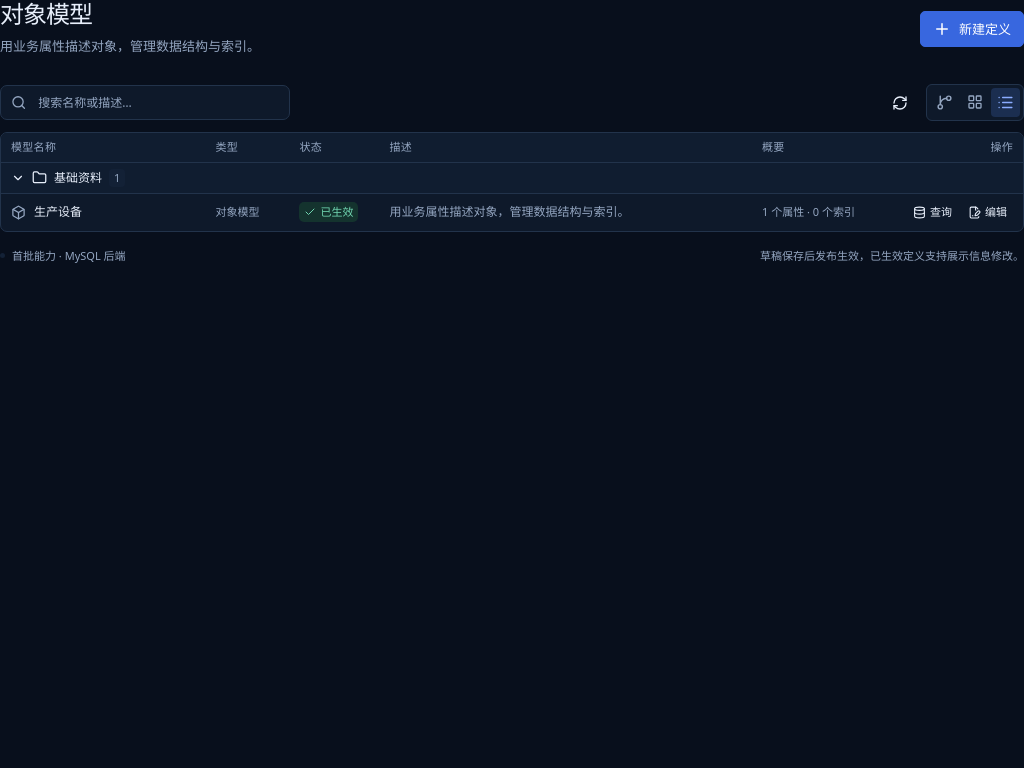
Test: 模型工作流 › 已生效的正向绑定允许增加可空属性，已有属性和映射保持锁定
Click the button "编辑". click: (988, 212)
box: 962,198 -> 1013,226
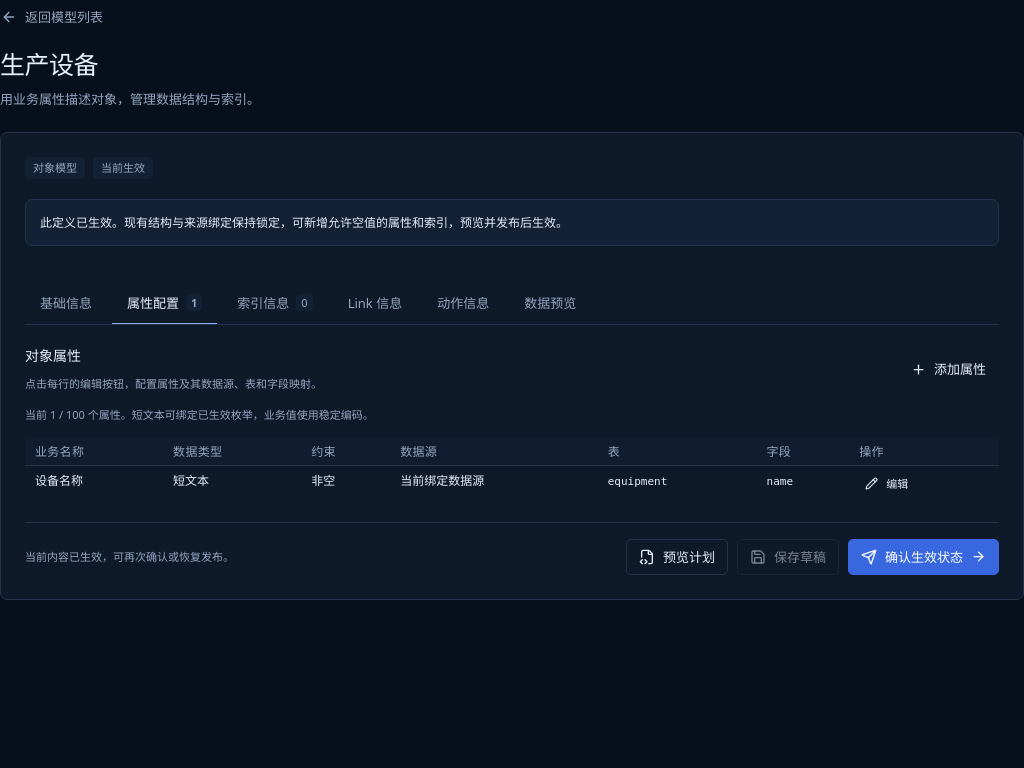
Click the tab "属性配置 1". click: (165, 303)
box: 112,282 -> 217,325
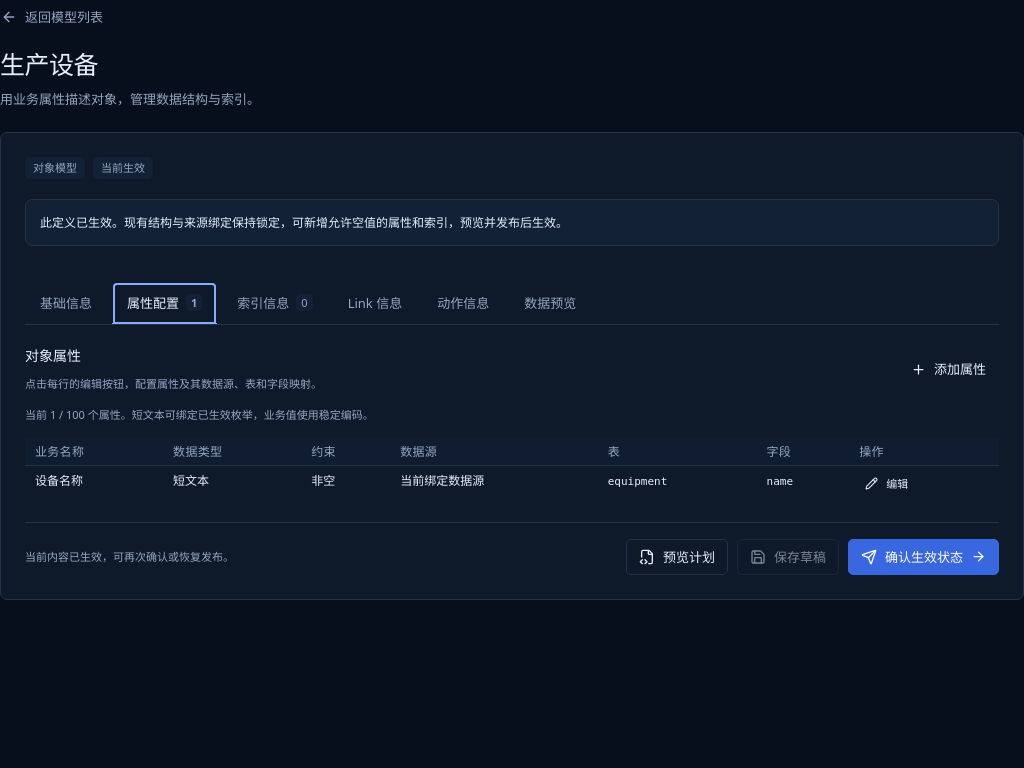
Click the button "编辑". click: (887, 484)
box: 859,471 -> 914,497
(page scrolled)
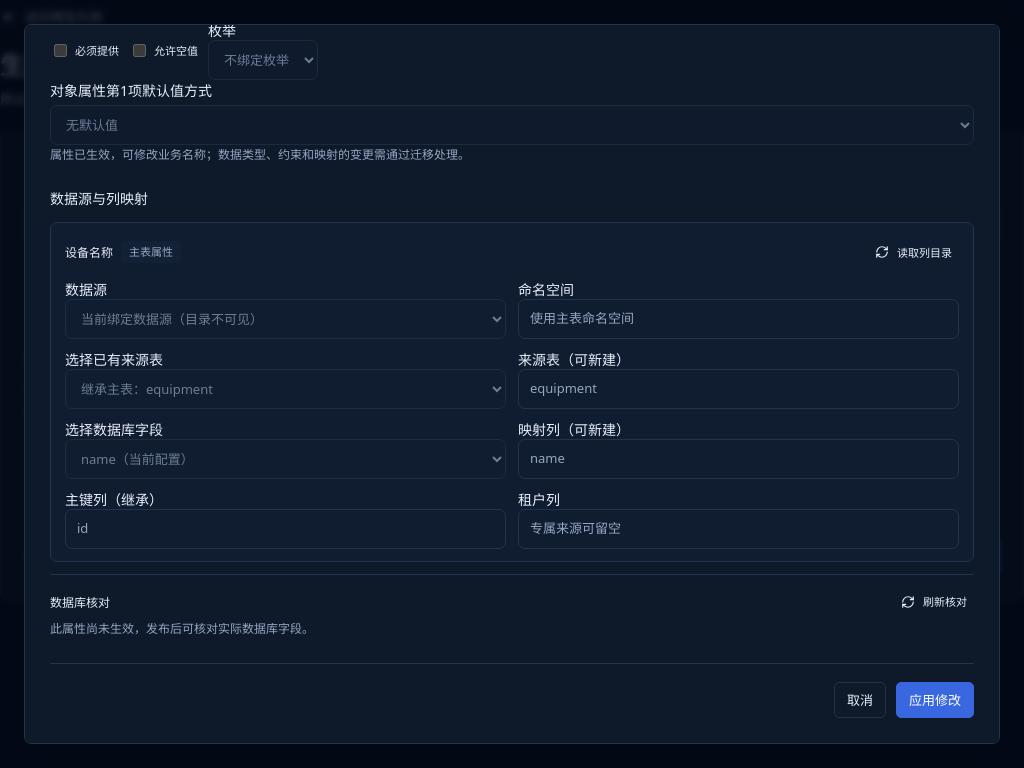
expect the dropdown named "属性1数据源" is disabled: met, box 65,299 -> 506,339
Click the button "取消". click: (860, 700)
box: 834,682 -> 886,718
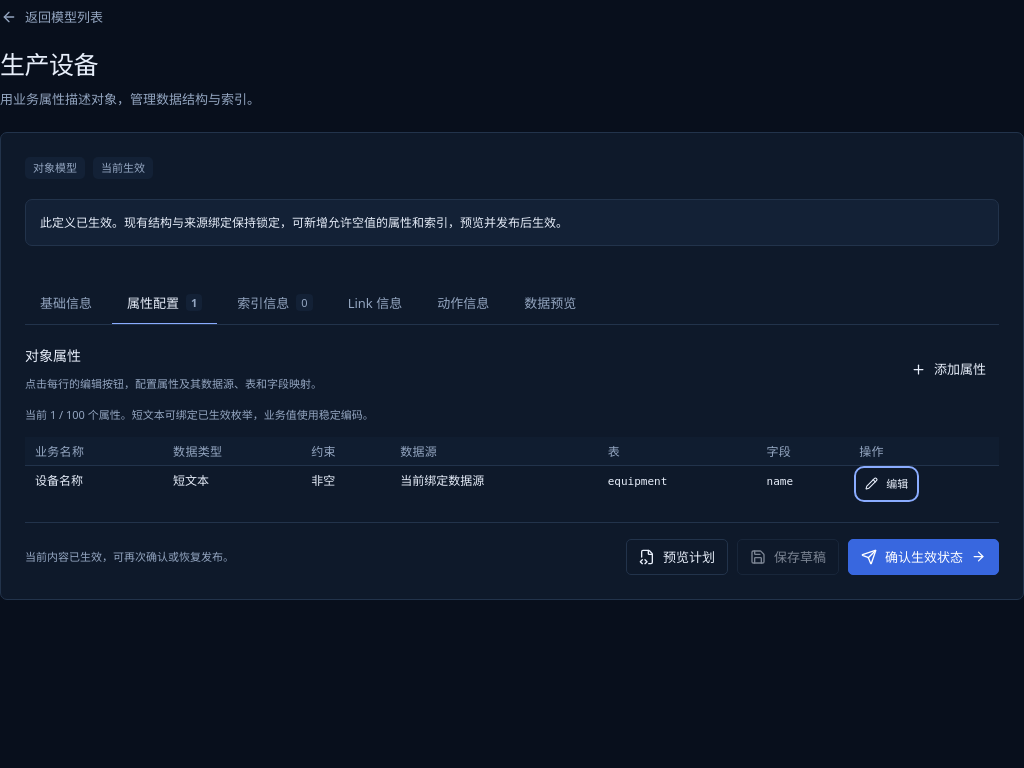
Click the button "添加属性". click: (948, 370)
box: 898,351 -> 999,388
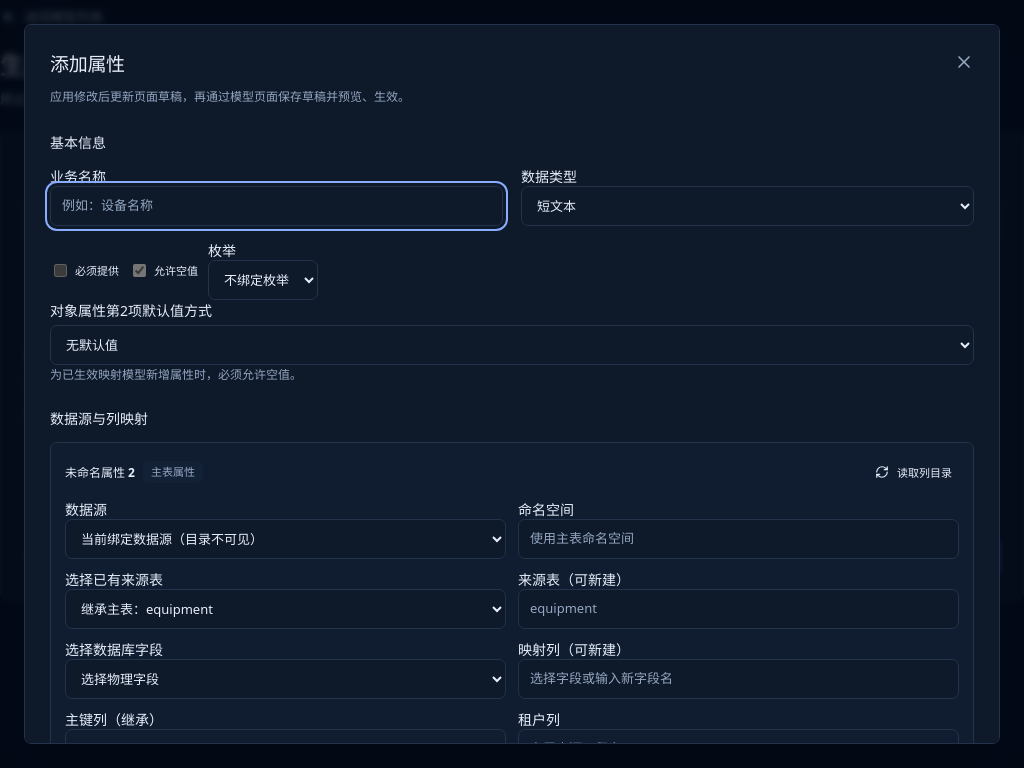
expect the dropdown named "对象属性第2项类型" is enabled: met, box 521,186 -> 974,226
expect the checkbox labelled "允许空值" is checked: met, box 133,264 -> 146,277
expect the checkbox labelled "允许空值" is disabled: met, box 133,264 -> 146,277
